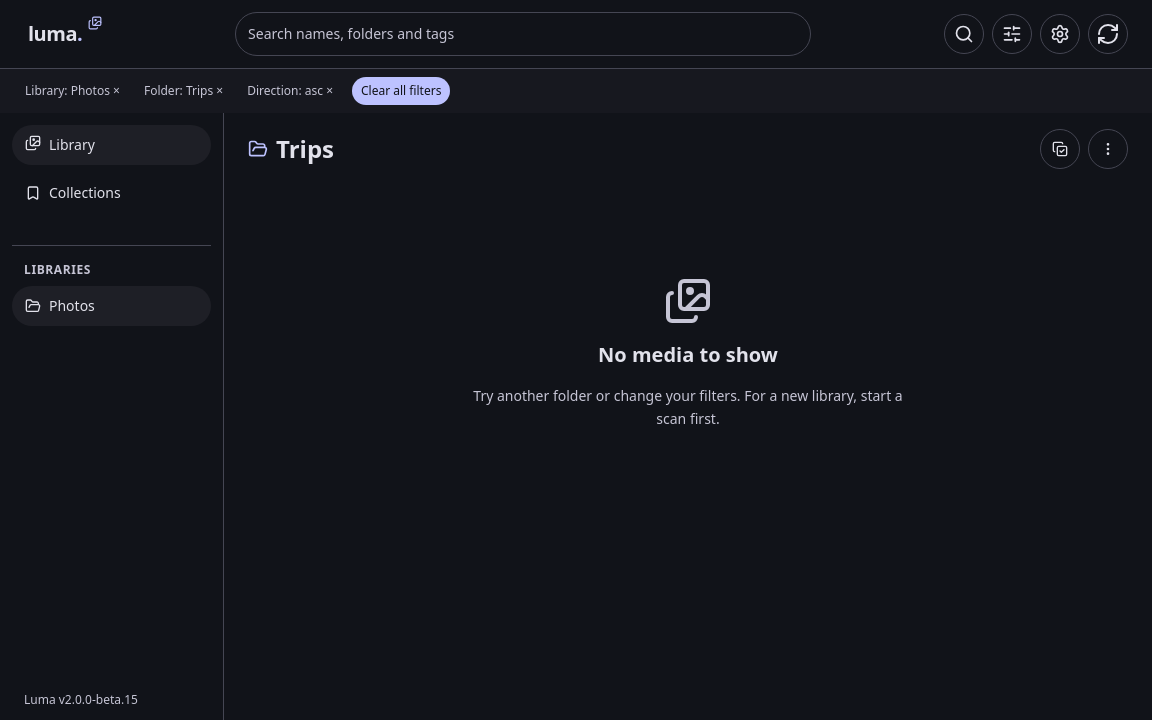
browsing shell › clears search back to the last library folder even after returning to Library with the query active
Type "Beach" into the dropdown named "Search media" at (523, 34), box [235, 12, 811, 56]
Then press Enter
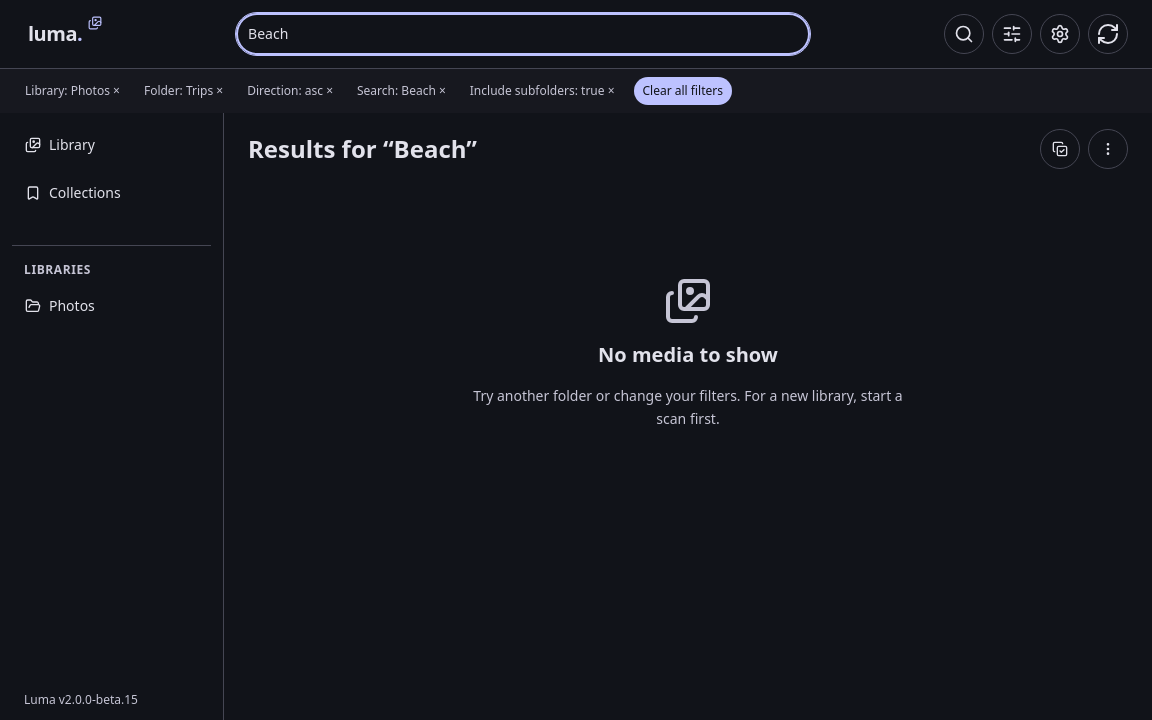
Click the button "Library" at (112, 145), box [12, 125, 211, 165]
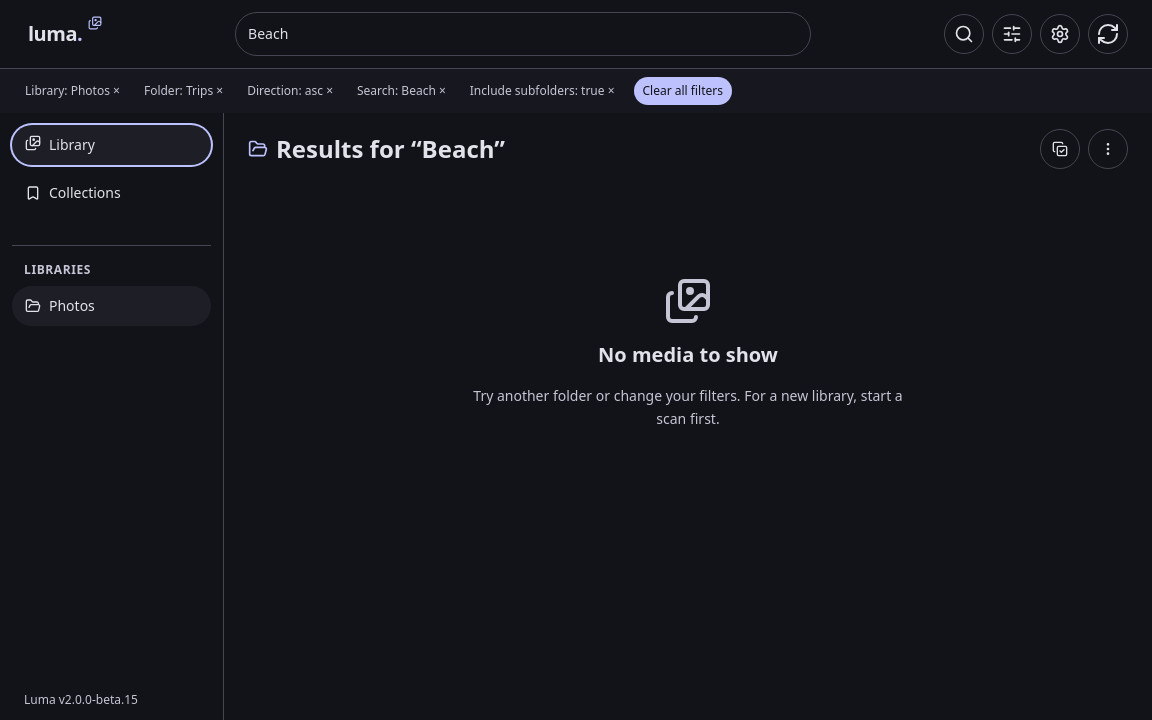
Clear the dropdown named "Search media" at (523, 34), box [235, 12, 811, 56]
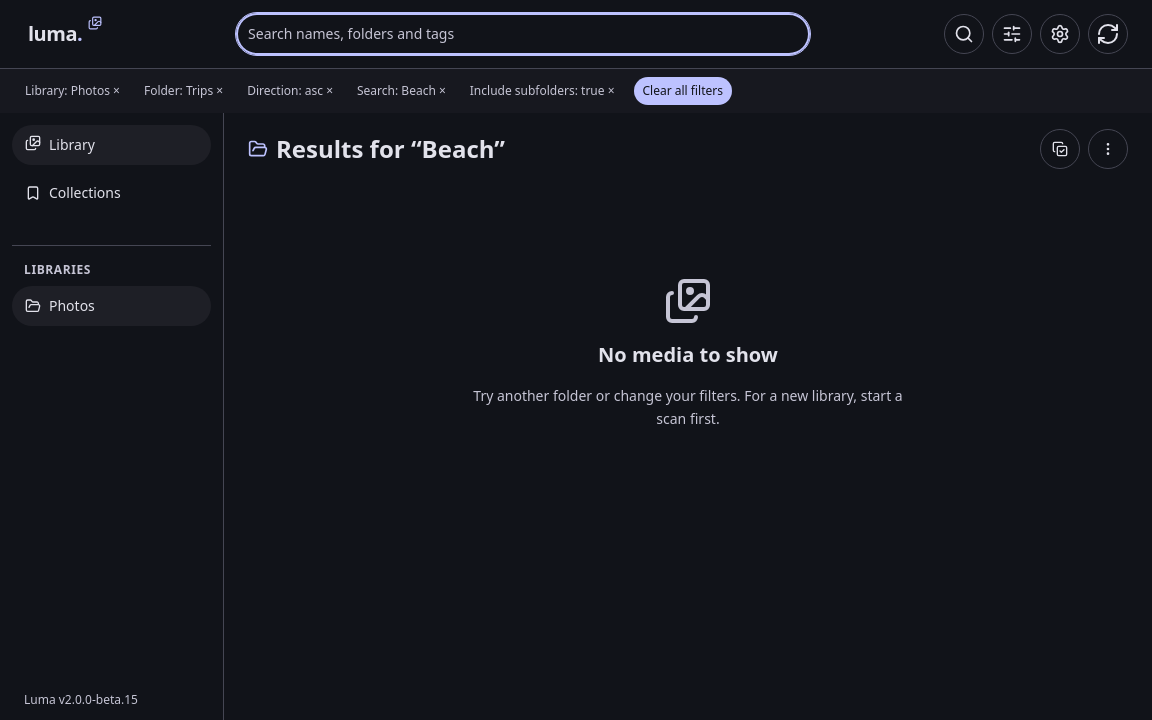
Press Enter
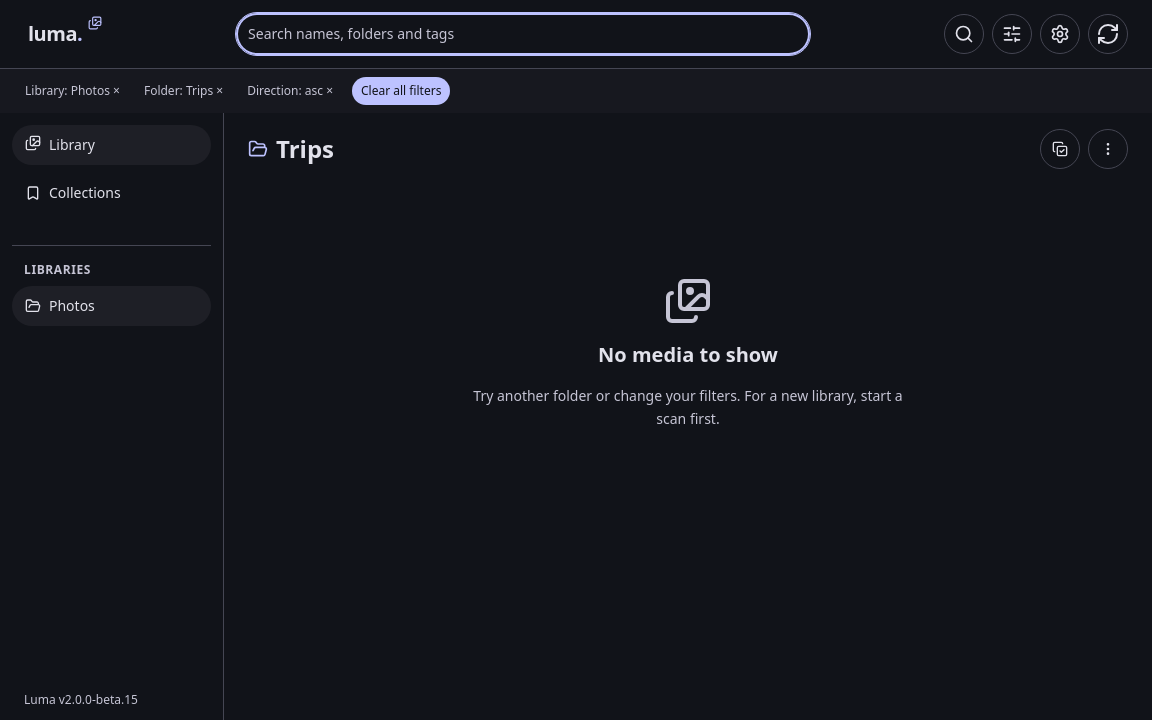
Expected: the heading "Trips" is shown, [276, 133, 334, 165]
